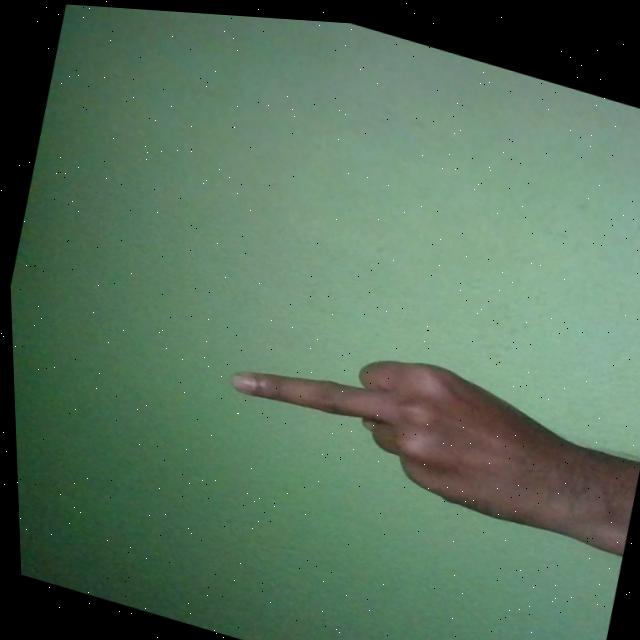Middle Finger: (206, 300, 629, 543)
